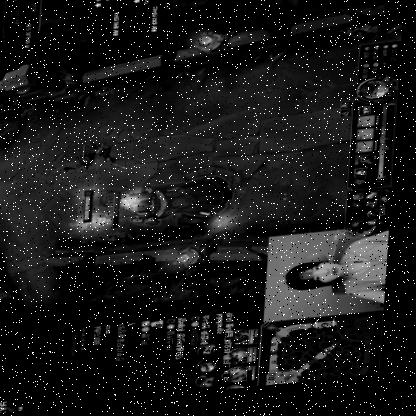streamer: (287, 238, 393, 320)
